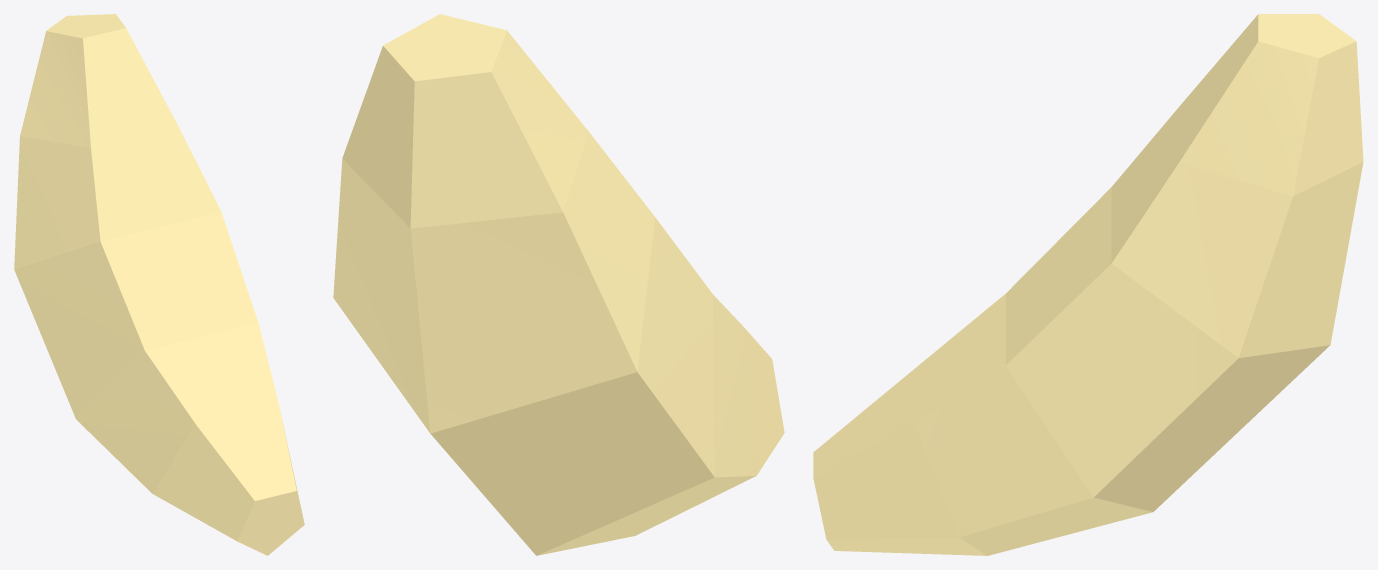
Rendered from banana_nude.glb.
3 views of the same model, side by side, from view 1: azimuth 30°, elevation 25°; view 2: azimuth 150°, elevation 25°; view 3: azimuth 270°, elevation 25° (orthographic). The views are drawn at different scales.
Parts seen in each view (by area): view 1: Cylinder.002; view 2: Cylinder.002; view 3: Cylinder.002.
Boxes of the visible parts, x1=… form: Cylinder.002: x1=14, y1=14, x2=304, y2=555; Cylinder.002: x1=333, y1=14, x2=784, y2=555; Cylinder.002: x1=813, y1=14, x2=1363, y2=555.
Bounding box in the file's own units: 0.6371 × 1.27 × 1.19.
1 material, 1 textured.
